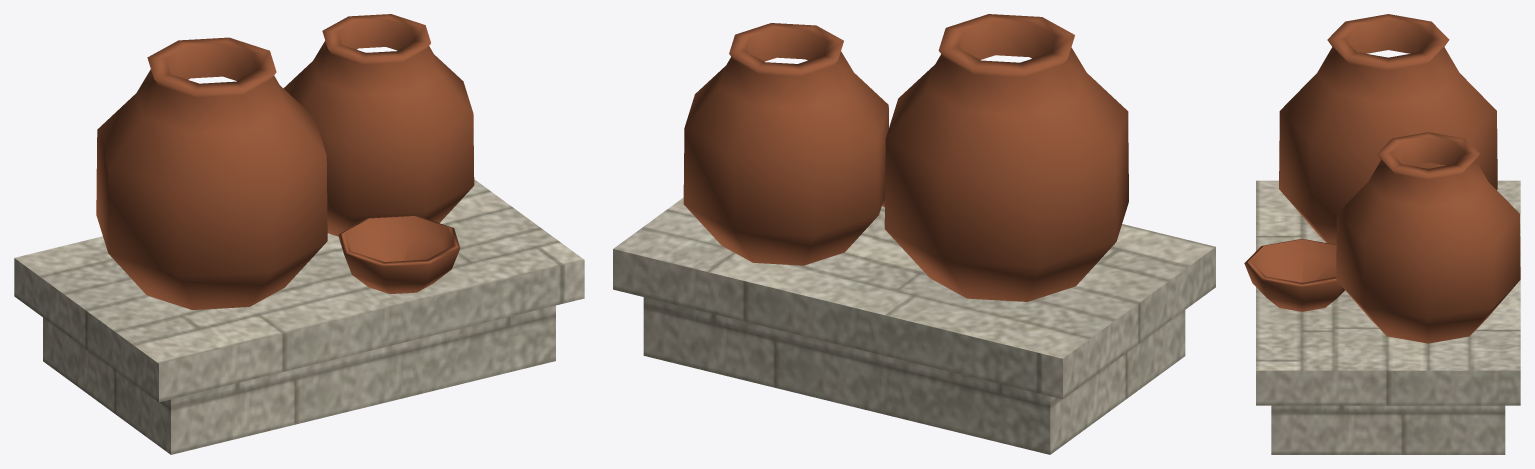
Rendered from periodWaterStand.glb.
The picture shows the model from 3 angles, left to right: view 1: azimuth 30°, elevation 25°; view 2: azimuth 150°, elevation 25°; view 3: azimuth 270°, elevation 25°; orthographic projection. The views are drawn at different scales.
Parts seen in each view (by area): view 1: part_0, part_1; view 2: part_0, part_1; view 3: part_0, part_1.
Part boxes in pixels (x1,y1,x2,y2): part_0: [96, 14, 474, 309]; part_1: [14, 179, 584, 454]; part_0: [683, 14, 1128, 301]; part_1: [613, 197, 1215, 454]; part_0: [1244, 14, 1520, 343]; part_1: [1256, 180, 1520, 454].
Bounding box in the file's own units: 0.73 × 0.5218 × 0.4492.
Materials: 2 (1 with a texture image).
